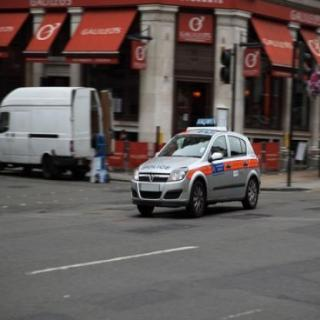Normal_vehicle: (132, 123, 259, 217)
